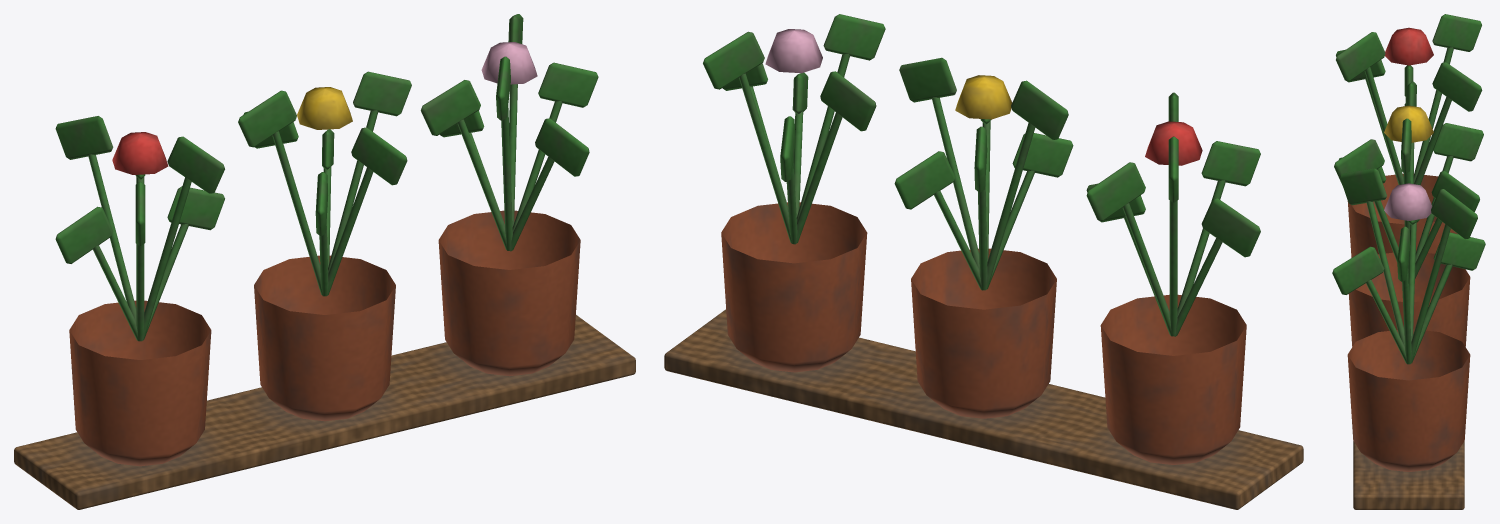
Rendered from fas_donice.glb.
3 renders of one model, left to right at view 1: azimuth 30°, elevation 25°; view 2: azimuth 150°, elevation 25°; view 3: azimuth 270°, elevation 25°, orthographic. The views are drawn at different scales.
Visible parts, largest first — view 1: Donice; view 2: Donice; view 3: Donice.
Part boxes in pixels (box(x1,y1,x2,y2)): Donice: box(14, 14, 635, 509); Donice: box(664, 14, 1303, 509); Donice: box(1332, 14, 1485, 509).
Size of the model in its own units: 1 by 0.5778 by 0.2755.
Materials: 1 (1 with a texture image).
